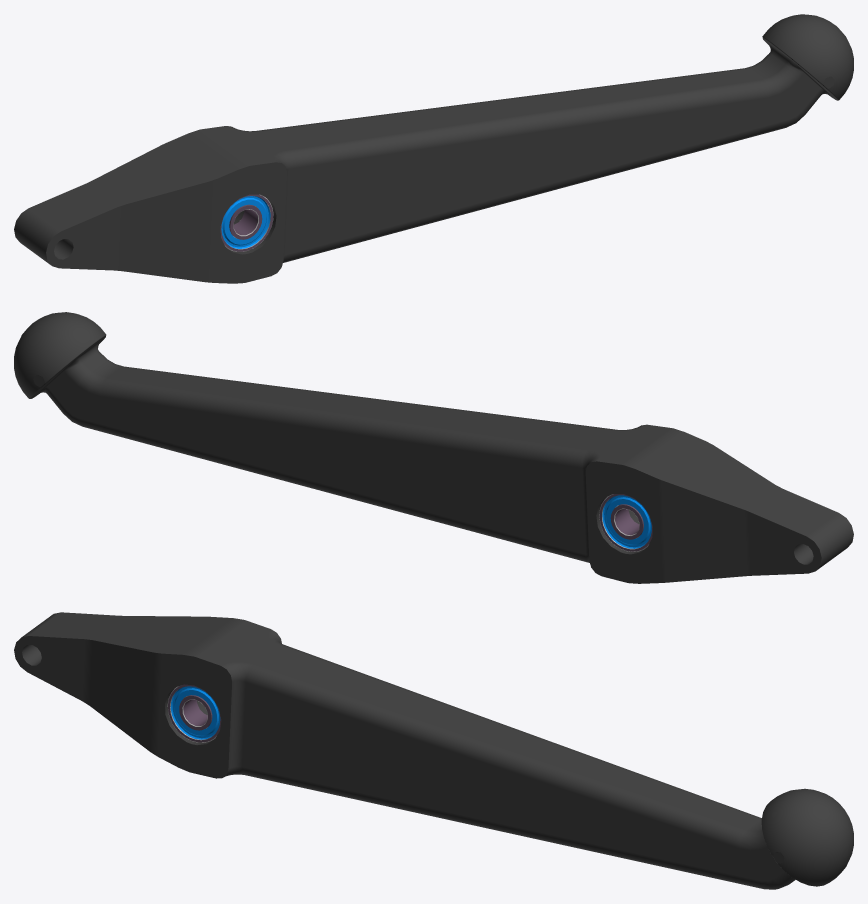
The picture shows the model from 3 angles, top to bottom: view 1: azimuth 30°, elevation 25°; view 2: azimuth 150°, elevation 25°; view 3: azimuth 330°, elevation 25°; orthographic projection.
Visible parts, largest first — view 1: mesh 6 Imported_4-1-solid1 face, mesh 1 R 3 joint-1/684 2Z CN-1, mesh 5 Imported_1-1-solid1 face; view 2: mesh 6 Imported_4-1-solid1 face, mesh 1 R 3 joint-1/684 2Z CN-1, mesh 5 Imported_1-1-solid1 face; view 3: mesh 6 Imported_4-1-solid1 face, mesh 1 R 3 joint-1/684 2Z CN-1, mesh 5 Imported_1-1-solid1 face.
Boxes of the visible parts, x1,y1,x2,y2 form: mesh 6 Imported_4-1-solid1 face: (14, 14, 853, 283); mesh 1 R 3 joint-1/684 2Z CN-1: (220, 194, 273, 251); mesh 5 Imported_1-1-solid1 face: (221, 196, 270, 248); mesh 6 Imported_4-1-solid1 face: (14, 312, 853, 583); mesh 1 R 3 joint-1/684 2Z CN-1: (599, 494, 652, 551); mesh 5 Imported_1-1-solid1 face: (602, 495, 651, 548); mesh 6 Imported_4-1-solid1 face: (14, 612, 853, 889); mesh 1 R 3 joint-1/684 2Z CN-1: (168, 684, 221, 742); mesh 5 Imported_1-1-solid1 face: (170, 686, 220, 739).
Bounding box in the file's own units: 0.1322 × 0.018 × 0.014.
